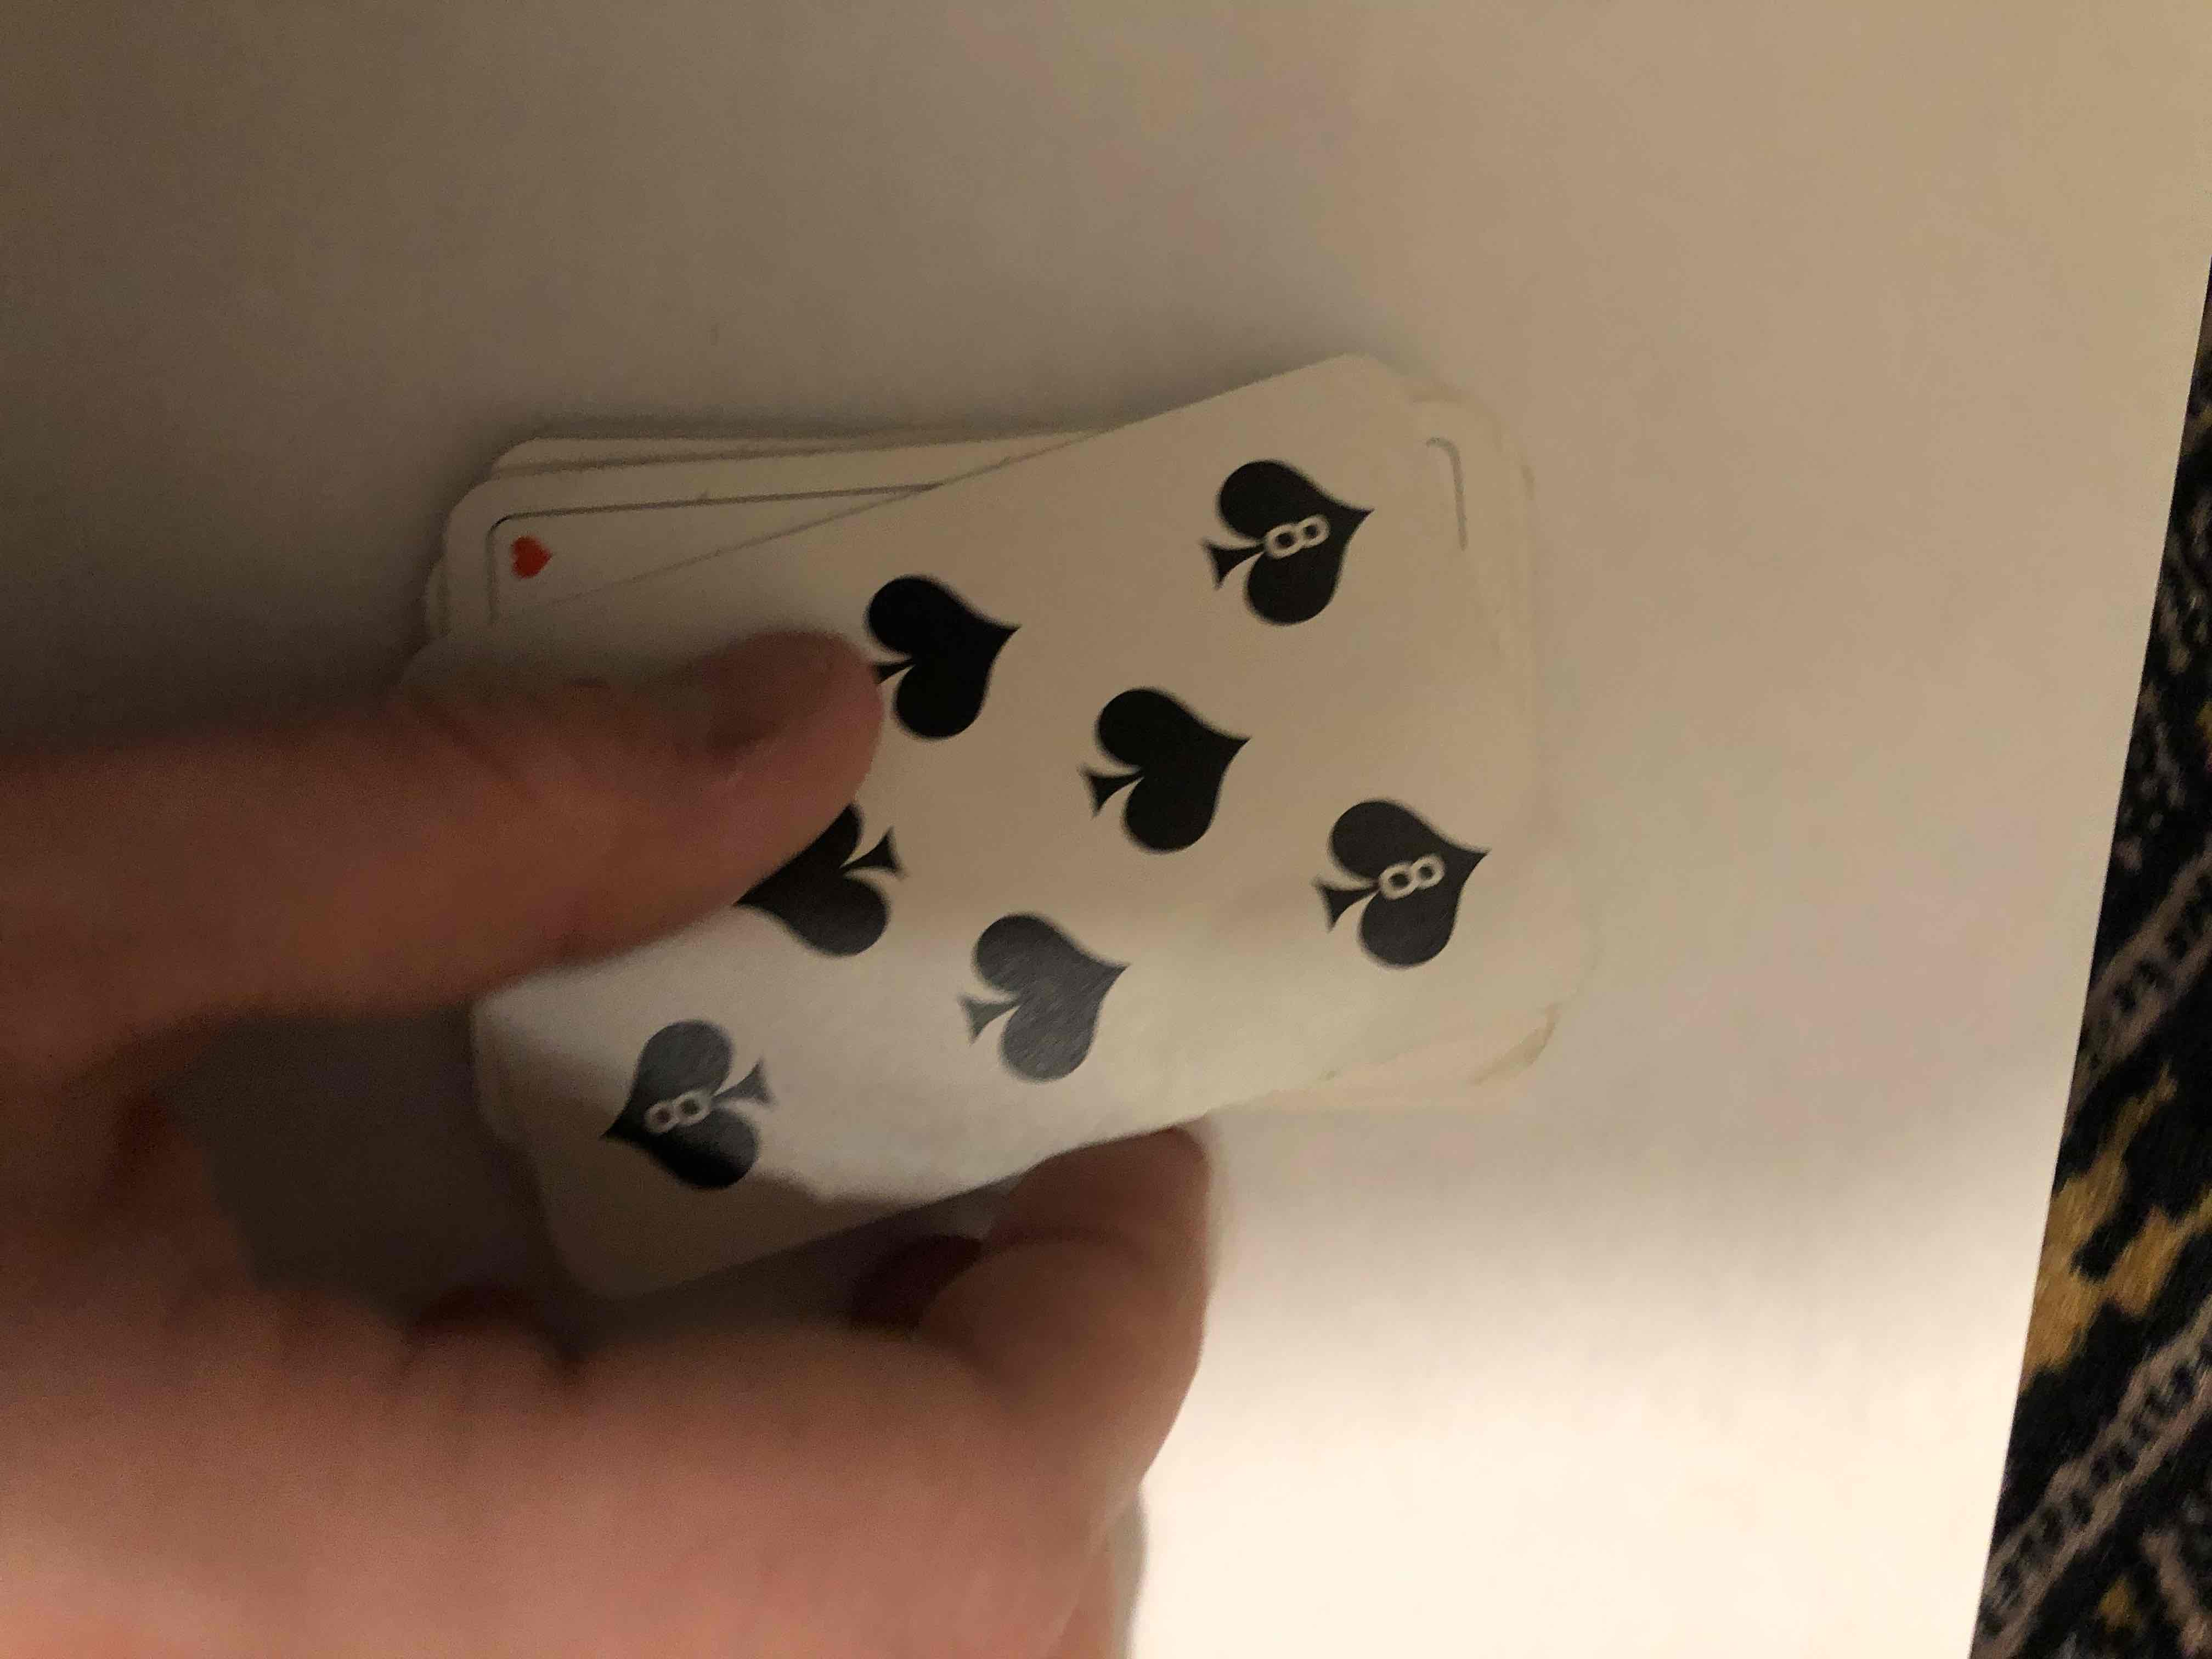spades8: (470, 458, 1609, 1330)
